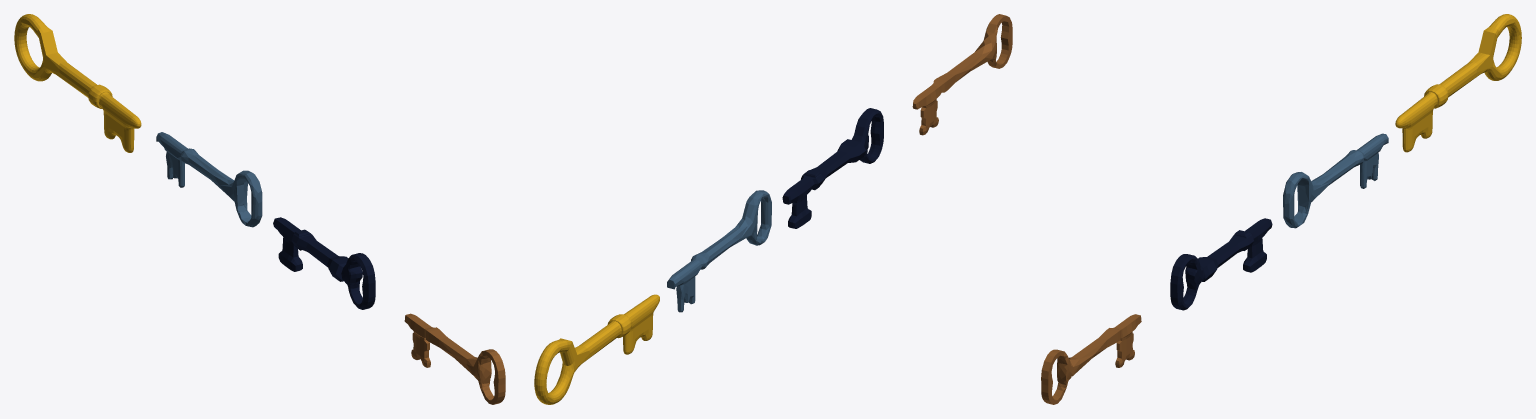
Rendered from chavesmodelo 1.fbx.
3 views of the same model, side by side, from view 1: azimuth 30°, elevation 25°; view 2: azimuth 150°, elevation 25°; view 3: azimuth 330°, elevation 25° (orthographic).
Visible parts, largest first — view 1: chave4, chave2, chave3, chave1; view 2: chave4, chave2, chave3, chave1; view 3: chave4, chave2, chave3, chave1.
Boxes of the visible parts, x1,y1,x2,y2 form: chave4: (14, 14, 141, 152); chave2: (273, 217, 375, 309); chave3: (156, 132, 262, 227); chave1: (404, 313, 505, 404); chave4: (534, 294, 659, 404); chave2: (782, 108, 883, 228); chave3: (667, 190, 771, 312); chave1: (912, 14, 1012, 135); chave4: (1395, 14, 1521, 152); chave2: (1170, 218, 1272, 310); chave3: (1283, 133, 1388, 228); chave1: (1041, 314, 1141, 404).
Bounding box in the file's own units: 5.38 × 14.13 × 184.
